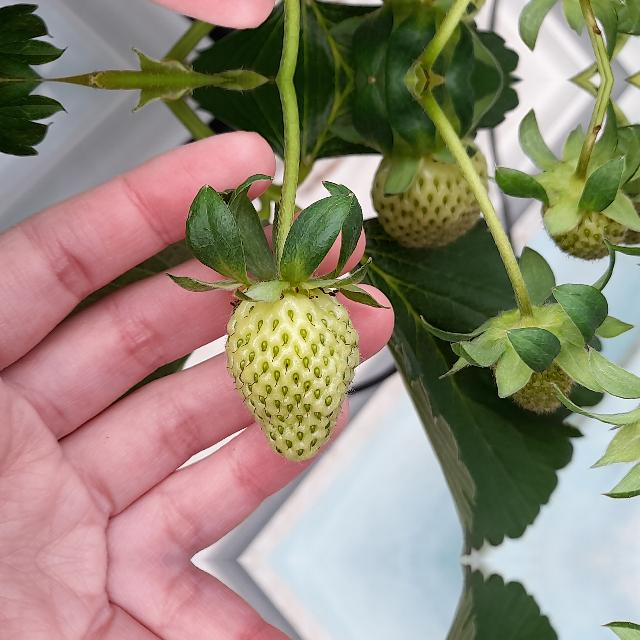Health_25: (224, 286, 360, 460), (367, 137, 491, 256)
